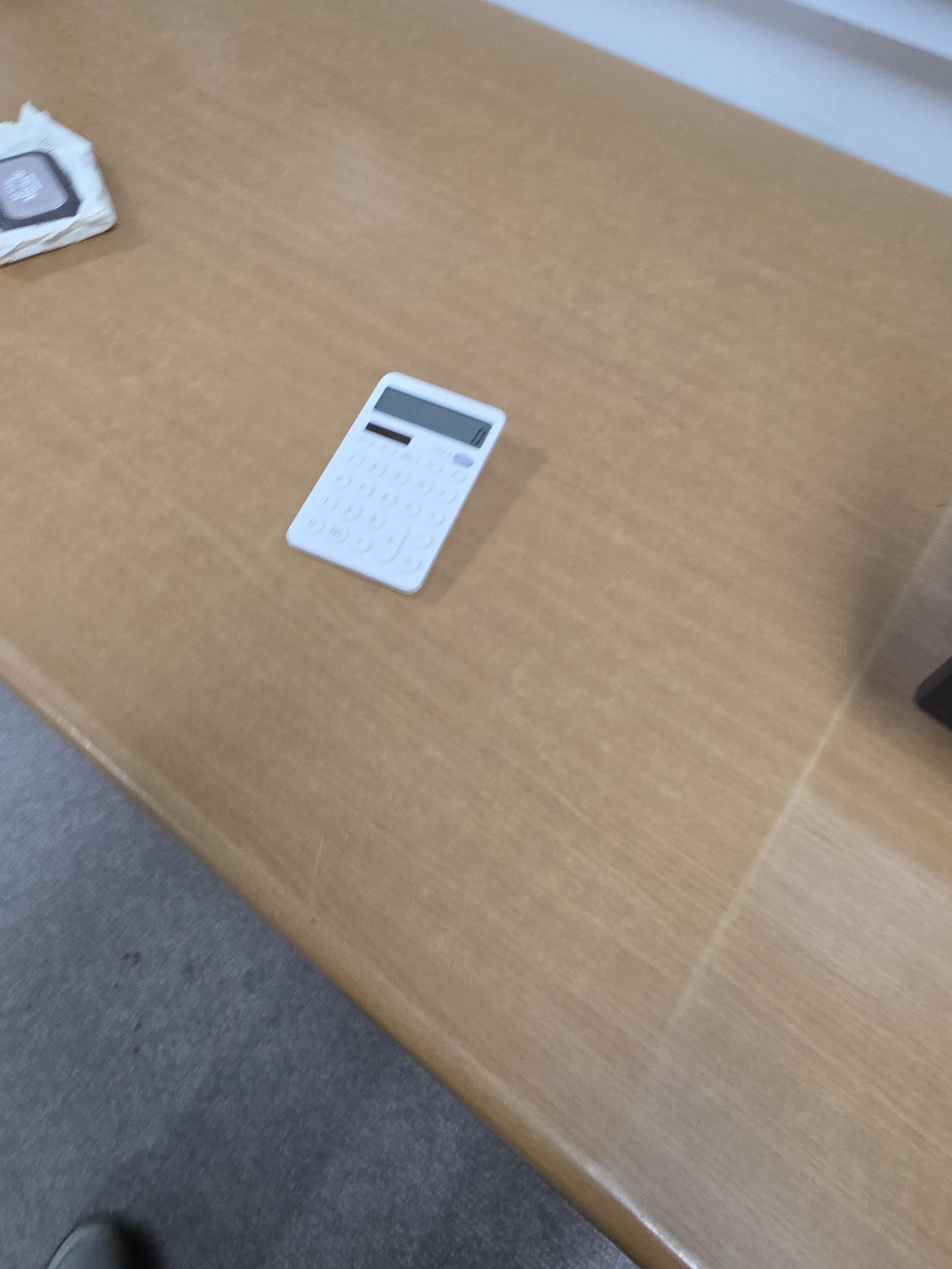calculator: (284, 371, 507, 595)
tissue: (0, 101, 118, 266)
